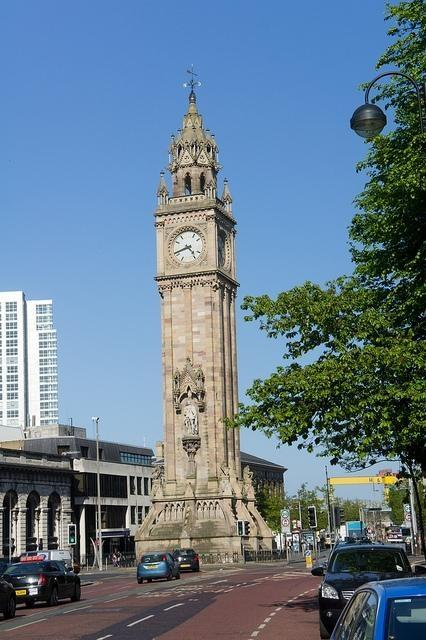car: (310, 546, 414, 622), (331, 577, 426, 640), (3, 556, 81, 608), (136, 551, 180, 583), (0, 576, 18, 620), (173, 548, 200, 574), (325, 534, 342, 548), (74, 558, 80, 574)
